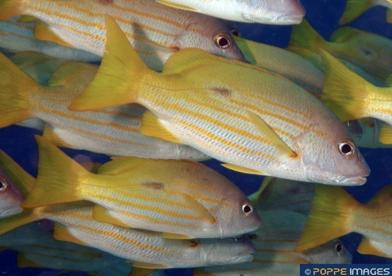Lutjanidae -Snappers-: (58, 10, 375, 190), (17, 130, 266, 244)
